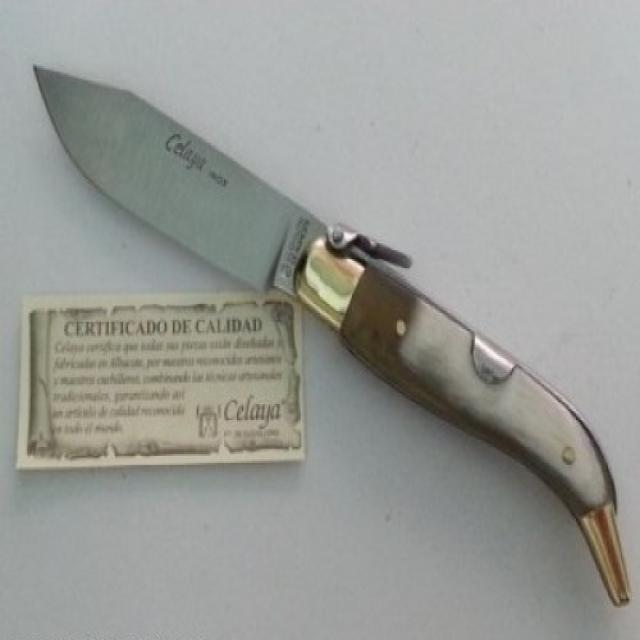knife: (27, 54, 634, 618)
